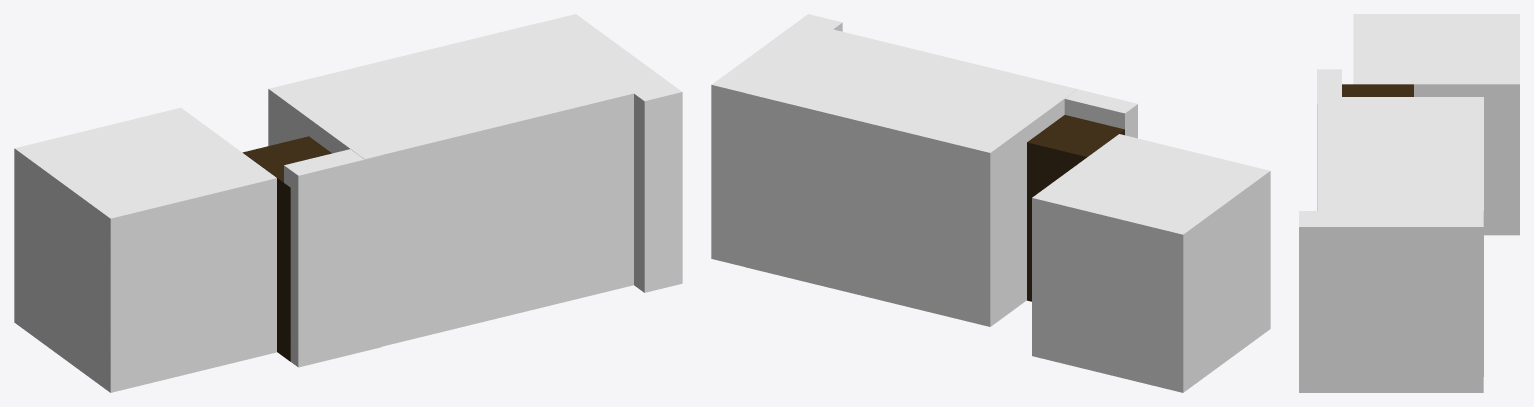
File: beck_hall.gltf
The picture shows the model from 3 angles, left to right: view 1: azimuth 30°, elevation 25°; view 2: azimuth 150°, elevation 25°; view 3: azimuth 270°, elevation 25°; orthographic projection. The views are drawn at different scales.
Visible parts, largest first — view 1: Cube.005, Cube.001, Cube.002, Cube.003, Cube.004; view 2: Cube.005, Cube.001, Cube.003, Cube.004, Cube.002; view 3: Cube.003, Cube.005, Cube.001, Cube.004, Cube.002.
Part boxes in pixels (x1,y1,x2,y2): Cube.005: (268, 23, 633, 346); Cube.001: (14, 107, 276, 392); Cube.002: (284, 149, 381, 367); Cube.003: (538, 14, 682, 292); Cube.004: (242, 136, 331, 361); Cube.005: (745, 29, 1077, 326); Cube.001: (1032, 134, 1270, 392); Cube.003: (711, 14, 842, 266); Cube.004: (1027, 115, 1124, 301); Cube.002: (1064, 89, 1137, 138); Cube.003: (1299, 211, 1483, 392); Cube.005: (1317, 97, 1483, 376); Cube.001: (1353, 14, 1519, 235); Cube.004: (1342, 84, 1413, 96); Cube.002: (1317, 69, 1341, 210).
Bounding box in the file's own units: 6.49 × 2.2 × 2.65.
